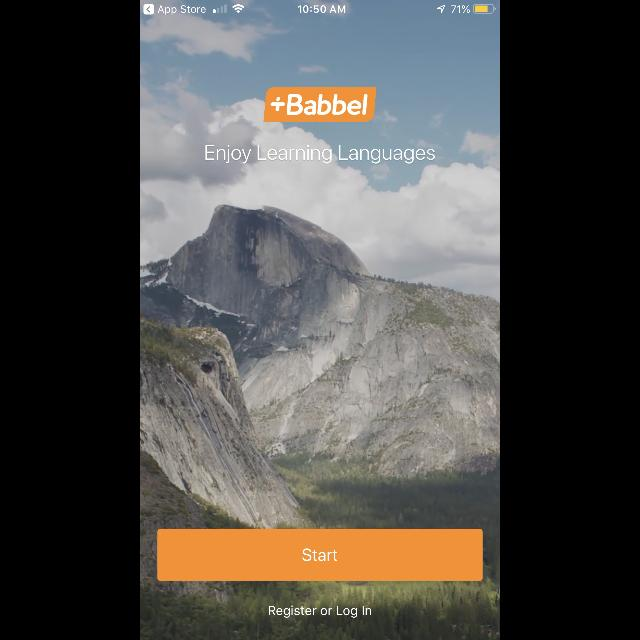backgroundimage: (140, 1, 500, 640)
image: (264, 88, 376, 122)
text: (205, 146, 435, 164), (268, 606, 372, 618)
textbutton: (158, 529, 482, 581)
uppertaskbar: (140, 1, 500, 16)
